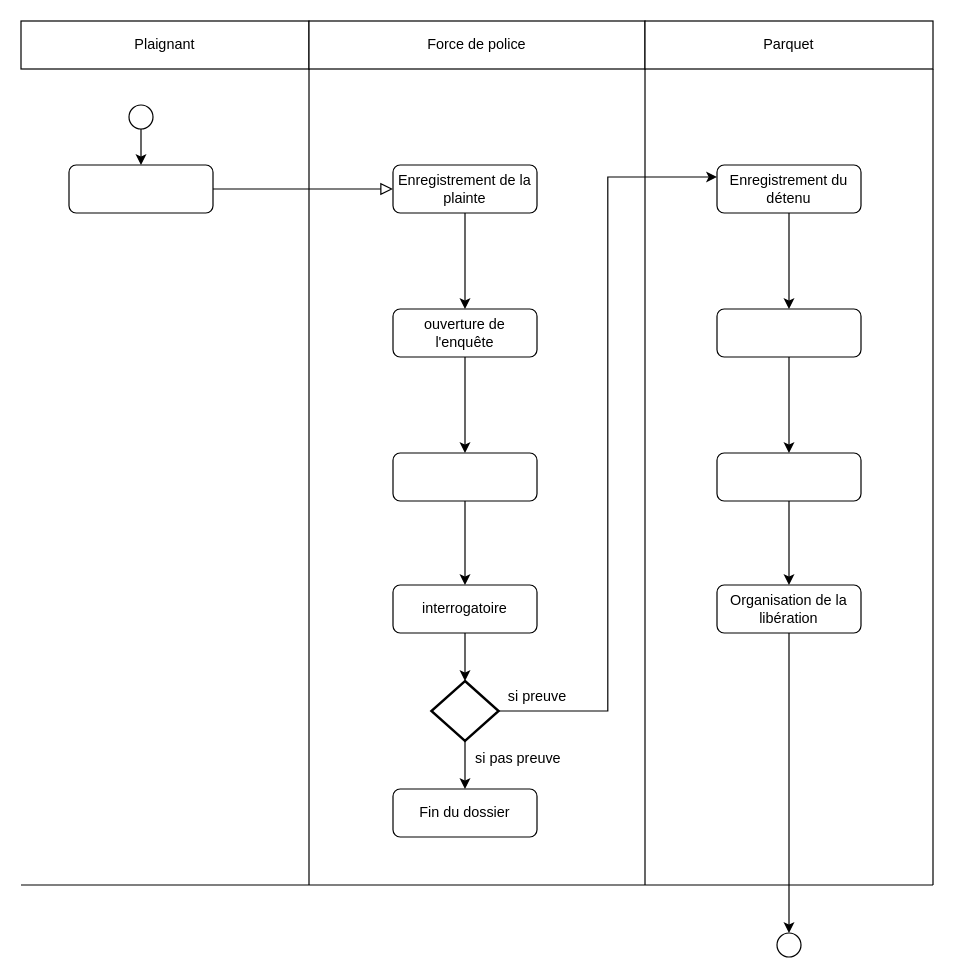
Some shapes in this 955 by 978 pixel diagram are drawn without their labels. Here are the shapes that lost their labels. From the top down, the box of each, then its label:
(68, 164, 213, 213): Dépôt de plainte
(716, 308, 861, 357): Suivi des conditions de détention
(392, 452, 537, 501): Génération numéro de dossier
(716, 452, 861, 501): Gestion des incidents, visite et activité
